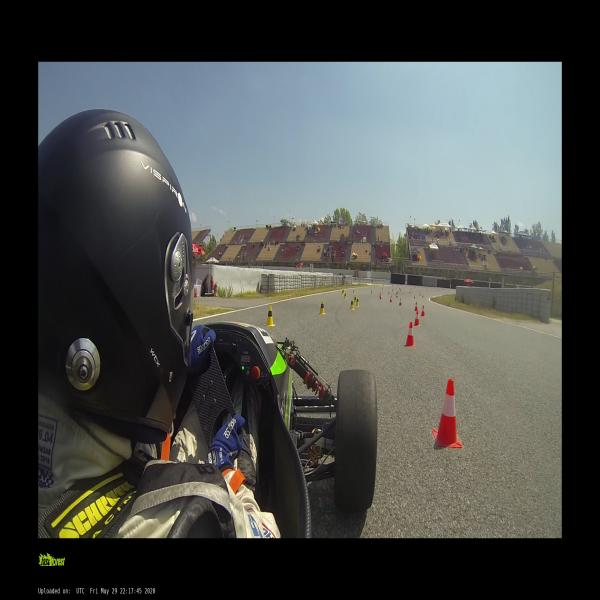orange_cone: (433, 379, 463, 450), (404, 322, 416, 347), (415, 311, 420, 325), (421, 305, 425, 317), (414, 302, 418, 311), (399, 298, 402, 306), (390, 296, 392, 302), (379, 293, 381, 298), (380, 294, 381, 299)
yellow_cone: (264, 306, 274, 326), (320, 300, 325, 315), (350, 298, 354, 310), (356, 297, 359, 307), (354, 295, 356, 304), (344, 293, 346, 299), (353, 290, 355, 294), (343, 289, 344, 294), (342, 290, 343, 295)
